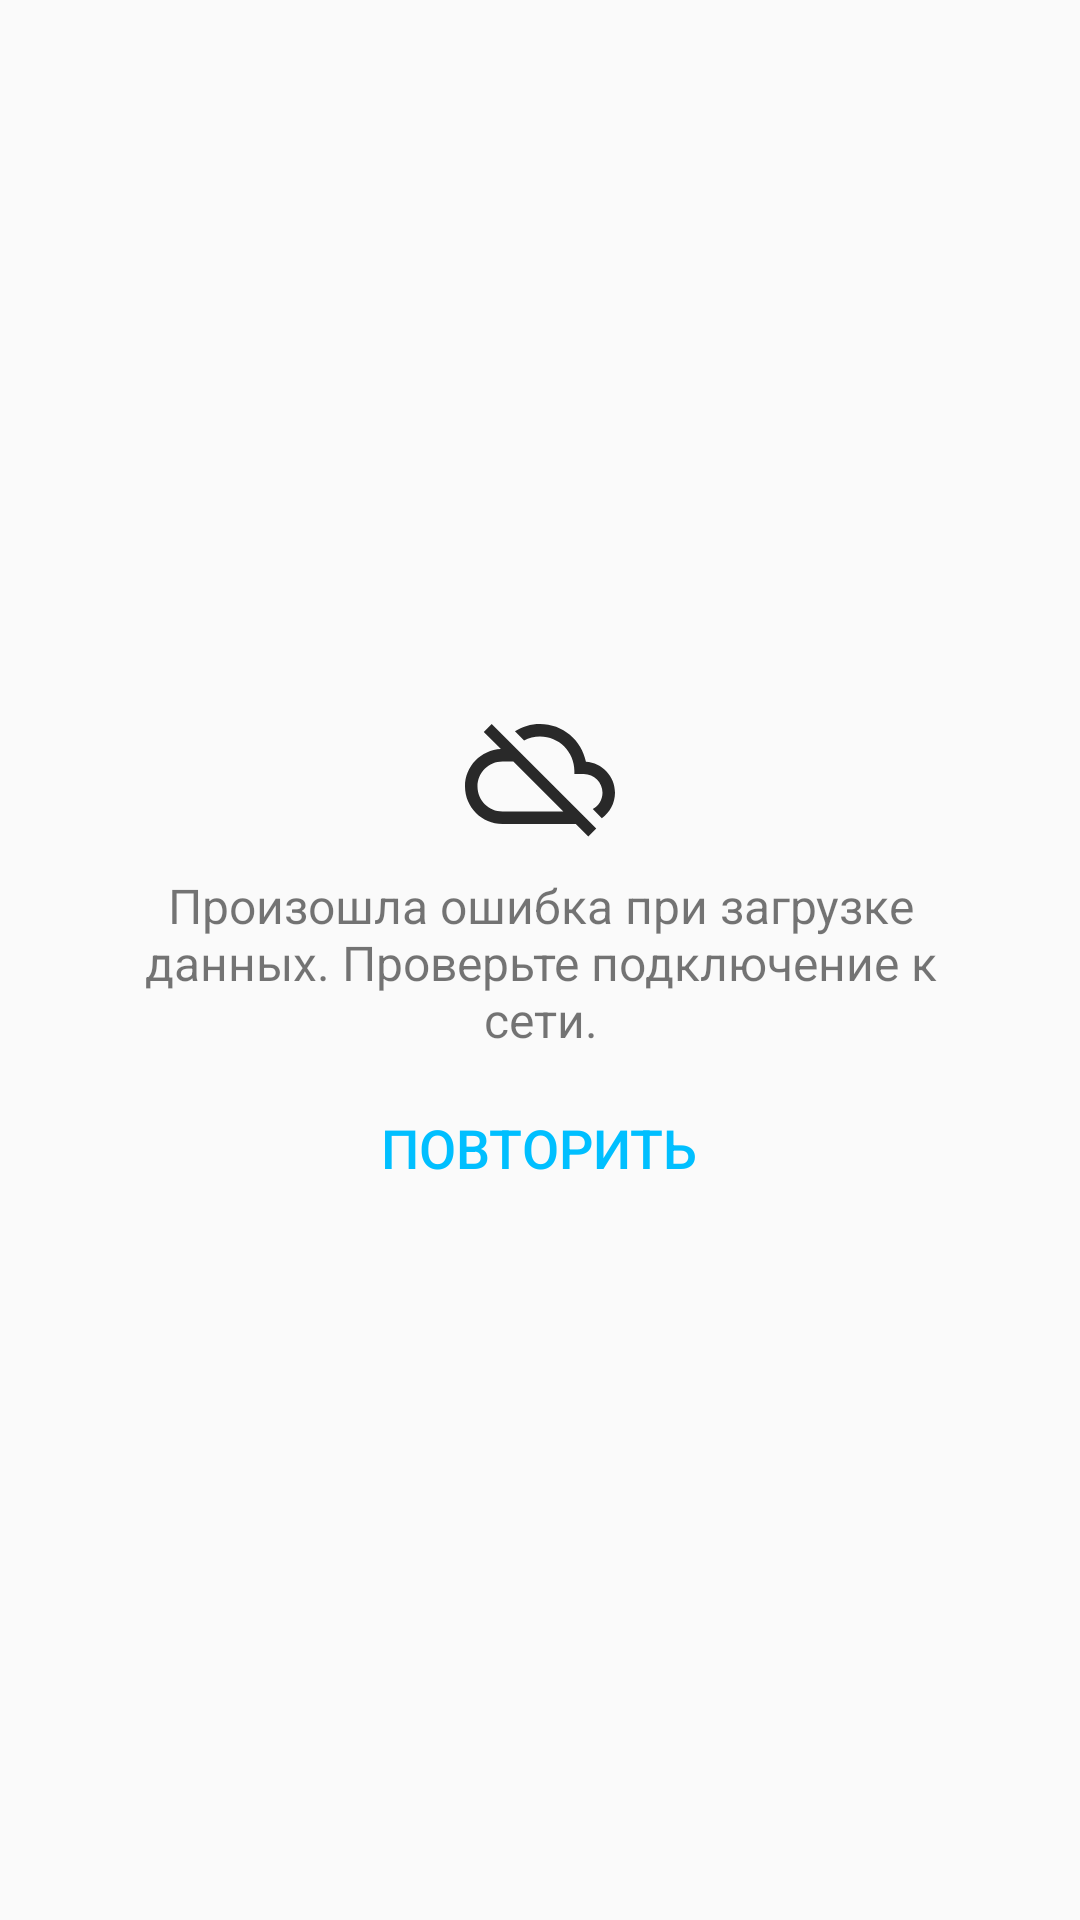

Icons on this 1080 × 1920 Android screen, each with its box as (x1, y1, x2, y2):
Значок отсутствия сети: (465, 724, 615, 837)
